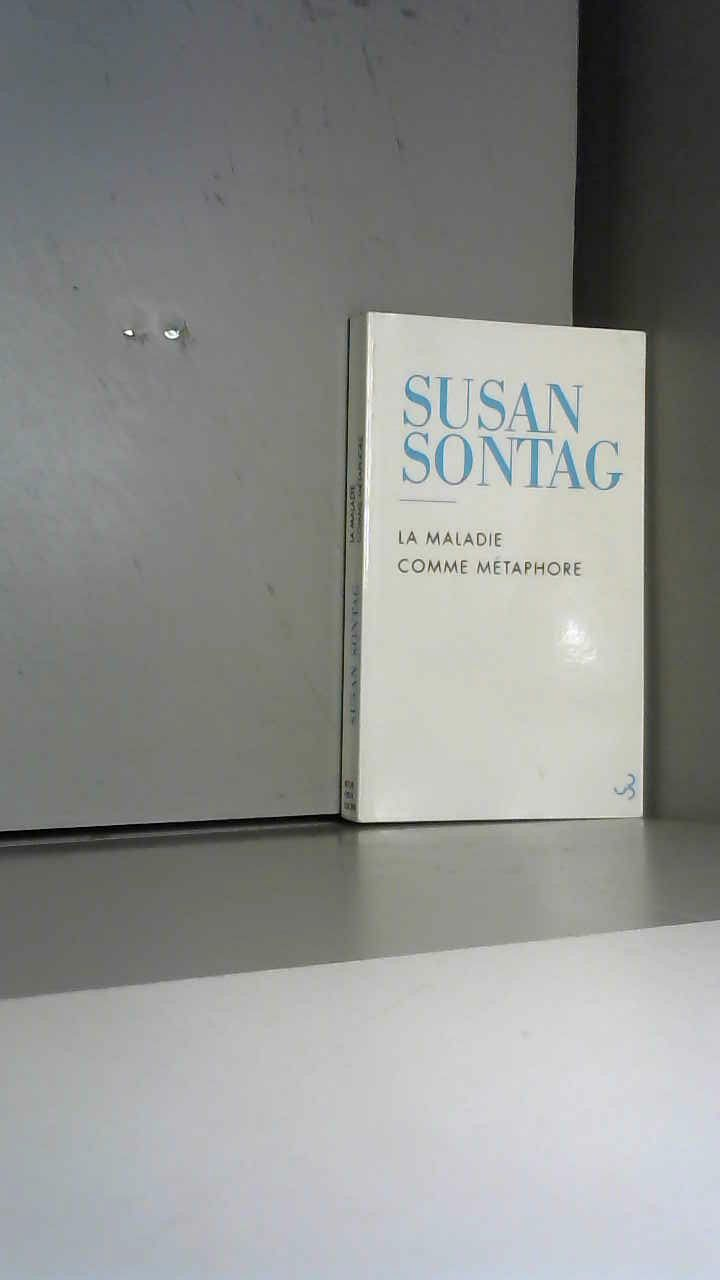book: (330, 280, 718, 896)
